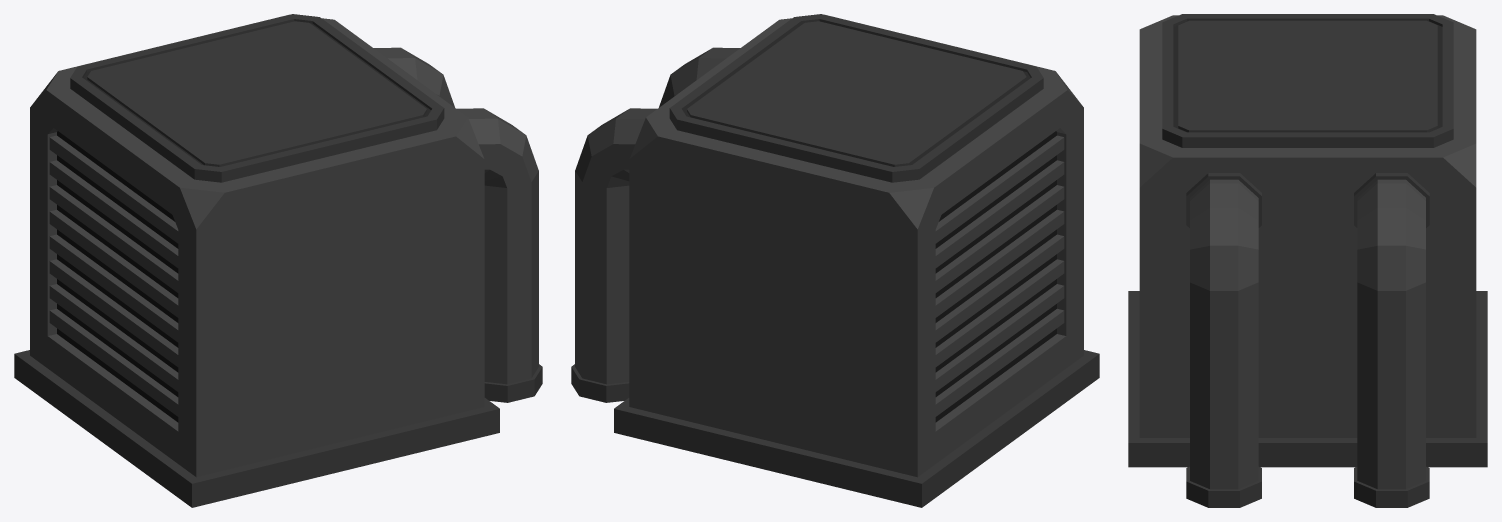
File: SM_Buildings_Part_01.fbx
3 views of the same model, side by side, from view 1: azimuth 30°, elevation 25°; view 2: azimuth 150°, elevation 25°; view 3: azimuth 270°, elevation 25° (orthographic).
Visible parts, largest first — view 1: SM_Buildings_Part_01; view 2: SM_Buildings_Part_01; view 3: SM_Buildings_Part_01.
Part boxes in pixels (box(x1,y1,x2,y2)): SM_Buildings_Part_01: box(14, 14, 542, 507); SM_Buildings_Part_01: box(571, 14, 1099, 507); SM_Buildings_Part_01: box(1128, 14, 1487, 507).
Size of the model in its own units: 84.72 by 64.78 by 66.85.
